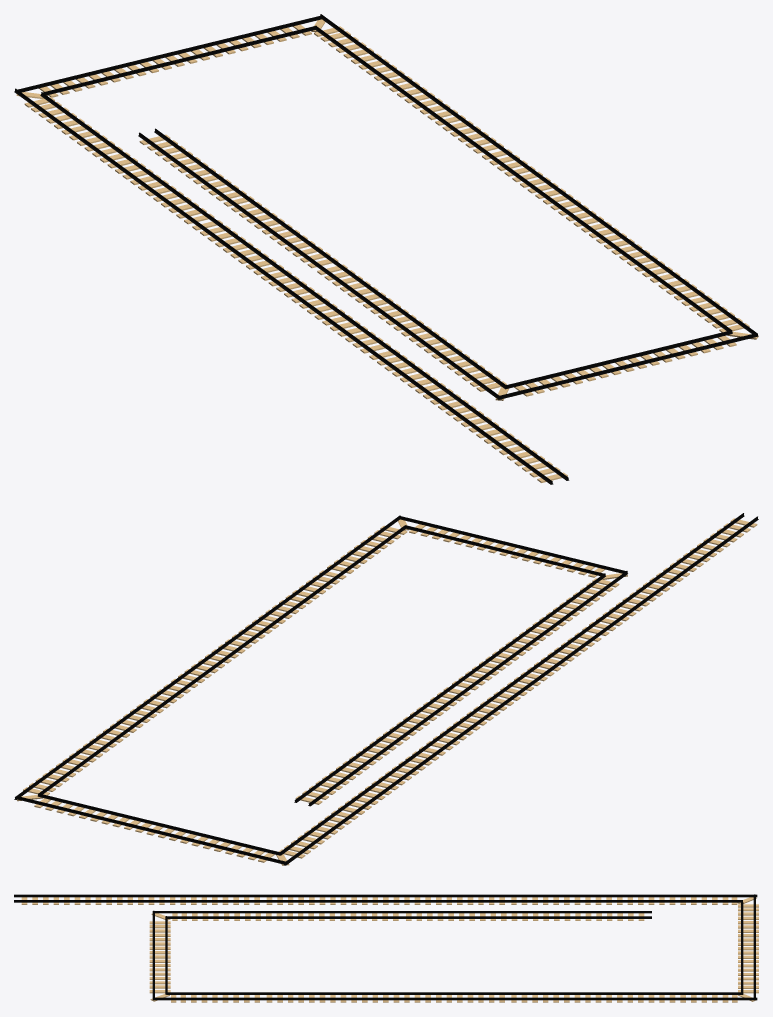
File: vias.obj
3 renders of one model, top to bottom at view 1: azimuth 30°, elevation 25°; view 2: azimuth 150°, elevation 25°; view 3: azimuth 270°, elevation 25°, orthographic. The views are drawn at different scales.
Visible parts, largest first — view 1: vias:Mesh9; view 2: vias:Mesh9; view 3: vias:Mesh9.
Part boxes in pixels (left/top/right/bottom): vias:Mesh9: left=14, top=14, right=758, bottom=484; vias:Mesh9: left=14, top=513, right=758, bottom=865; vias:Mesh9: left=14, top=894, right=758, bottom=1002.
Size of the model in its own units: 4.12 by 0.0554 by 12.17.
Materials: 2 (2 with a texture image).
